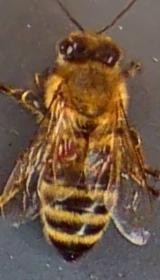varroa_mite: (38, 132, 84, 166)
